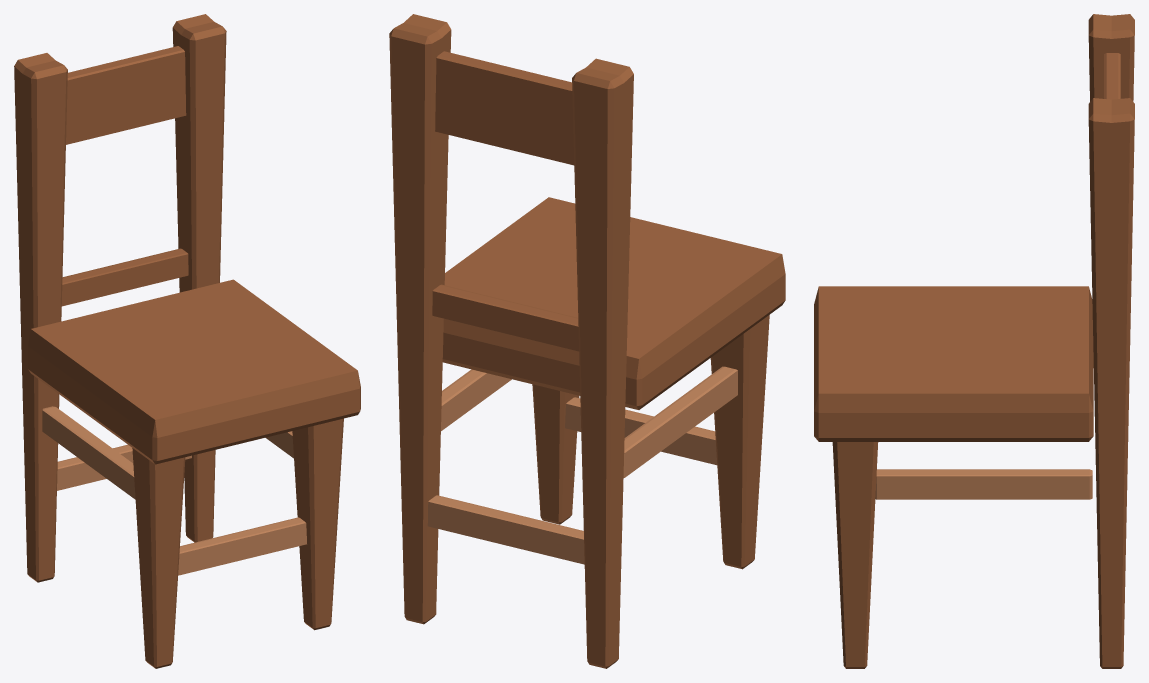
File: Chair A.glb
The picture shows the model from 3 angles, left to right: view 1: azimuth 30°, elevation 25°; view 2: azimuth 150°, elevation 25°; view 3: azimuth 270°, elevation 25°; orthographic projection. The views are drawn at different scales.
Parts seen in each view (by area): view 1: Chair A; view 2: Chair A; view 3: Chair A.
Part boxes in pixels (x1=…): Chair A: x1=14, y1=14, x2=360, y2=668; Chair A: x1=389, y1=14, x2=785, y2=668; Chair A: x1=814, y1=14, x2=1134, y2=668.
Bounding box in the file's own units: 206 × 487 × 253.
